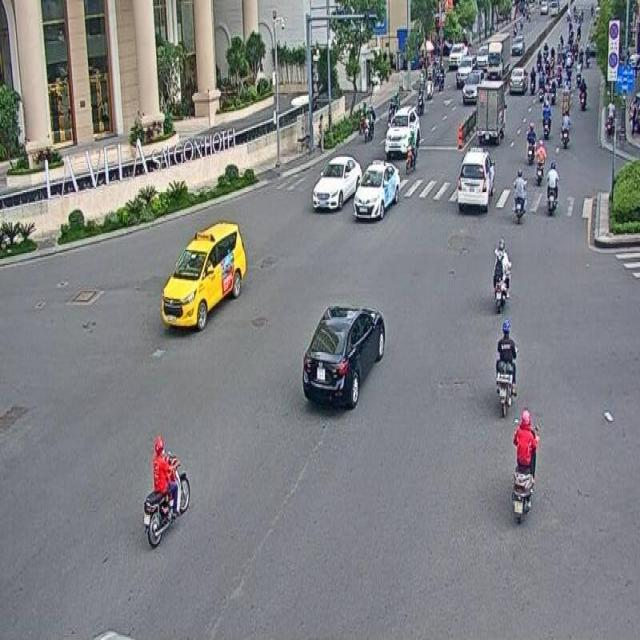car: (159, 216, 245, 334), (303, 302, 387, 411), (311, 151, 362, 209), (354, 157, 400, 219), (457, 142, 494, 210)
motorcycle: (142, 432, 188, 548), (494, 316, 518, 420), (490, 241, 511, 311)
